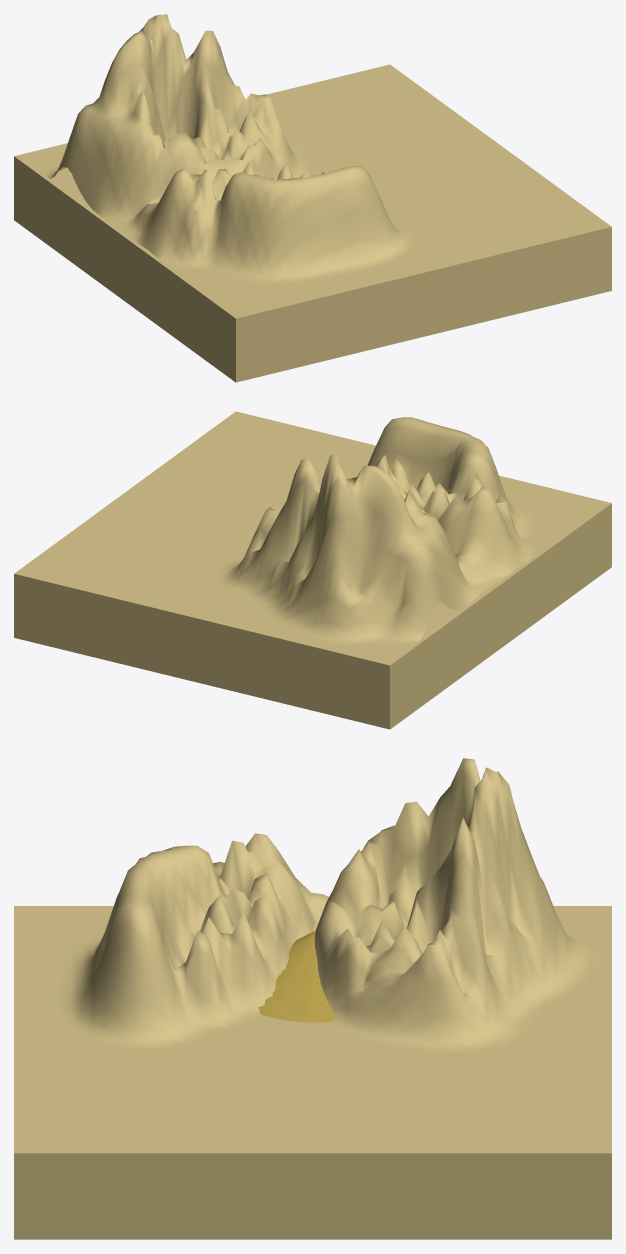
The model's file is 洪积扇.gltf.
3 renders of one model, top to bottom at view 1: azimuth 30°, elevation 25°; view 2: azimuth 150°, elevation 25°; view 3: azimuth 270°, elevation 25°, orthographic. The views are drawn at different scales.
Visible parts, largest first — view 1: node__-71068, node_Cube_-71872; view 2: node__-71068, node_Cube_-71872; view 3: node__-71068, node_Cube_-71872, node__-71072.
Boxes of the visible parts, <box> form: node__-71068: <box>21,14,605,313</box>; node_Cube_-71872: <box>14,64,611,382</box>; node__-71068: <box>20,413,604,660</box>; node_Cube_-71872: <box>14,411,611,729</box>; node__-71068: <box>24,758,601,1150</box>; node_Cube_-71872: <box>14,906,611,1239</box>; node__-71072: <box>258,930,335,1022</box>.
Bounding box in the file's own units: 1.29 × 0.7045 × 1.31.
